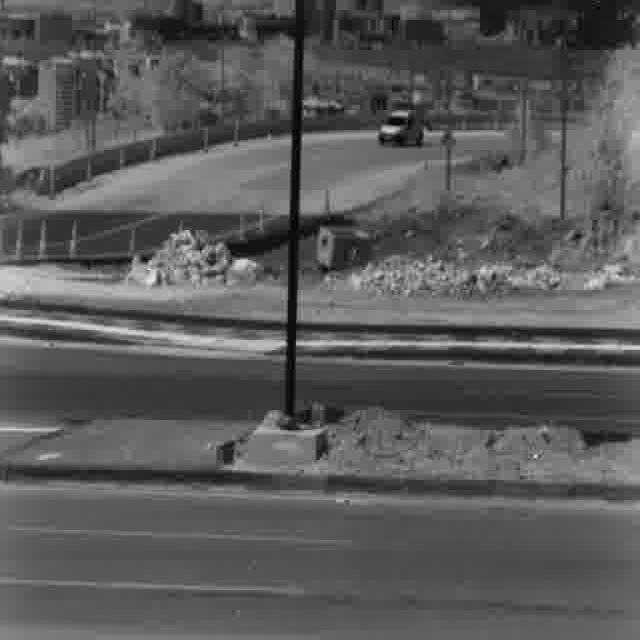Car: (376, 106, 426, 146)
